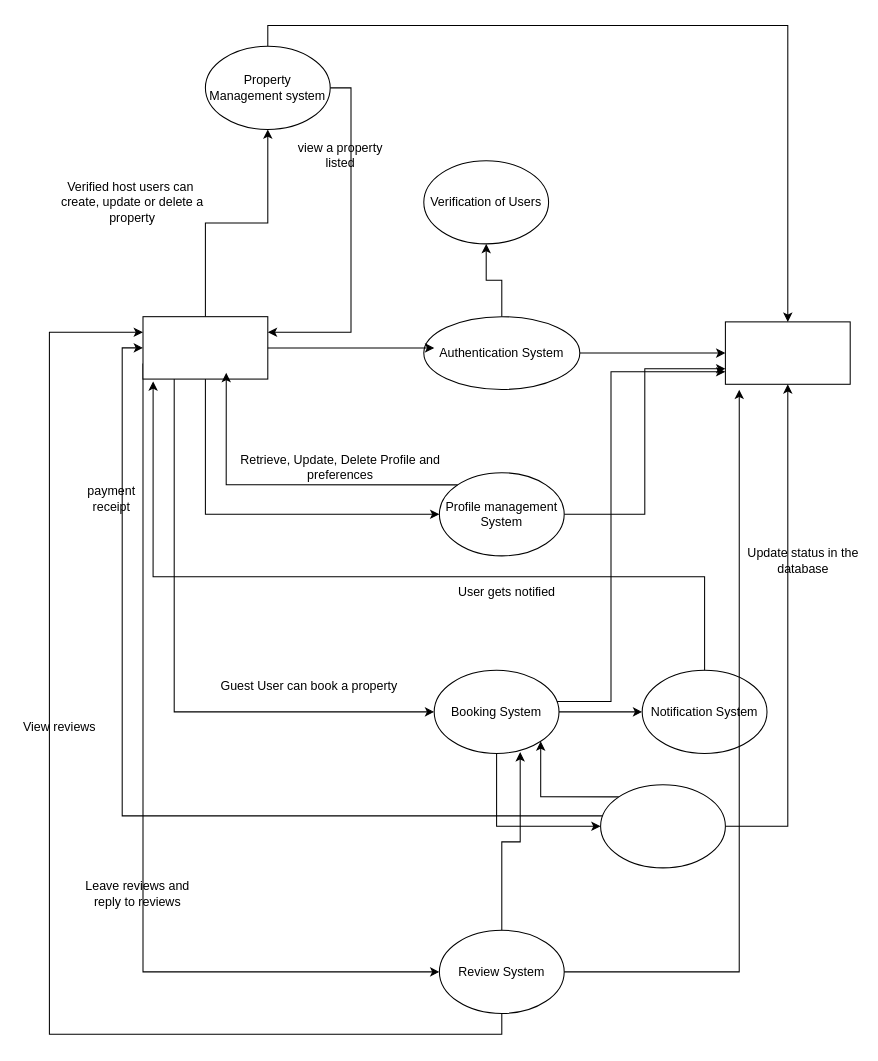
The diagram is 878 pixels wide and 1061 high, and some of its shapes have lost their labels. The shapes that lost their labels are listed below. From the top down, each one's box as (x1, y1, x2, y2) in pixels, then its label:
(142, 316, 268, 379): Users
(724, 321, 850, 384): Database
(600, 784, 725, 868): Payment System
